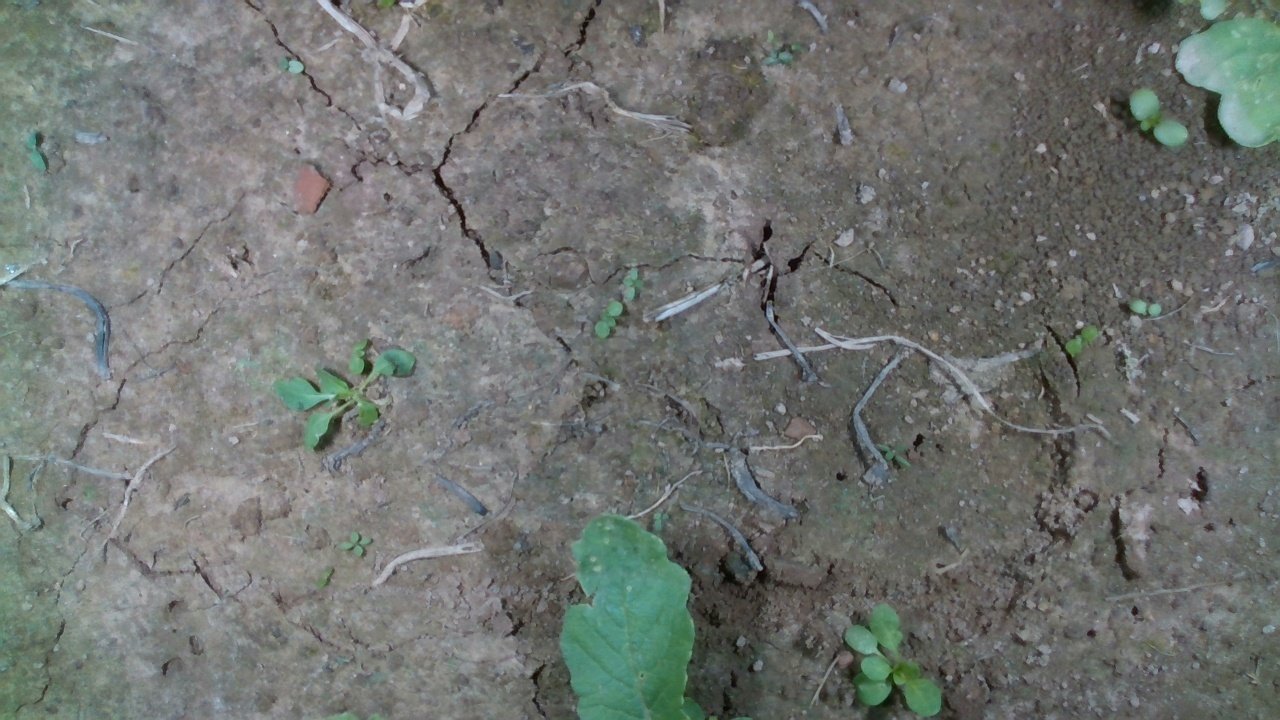weed: (1129, 87, 1189, 146), (1063, 321, 1099, 357), (594, 299, 623, 340), (337, 530, 373, 558), (1129, 299, 1163, 318)
